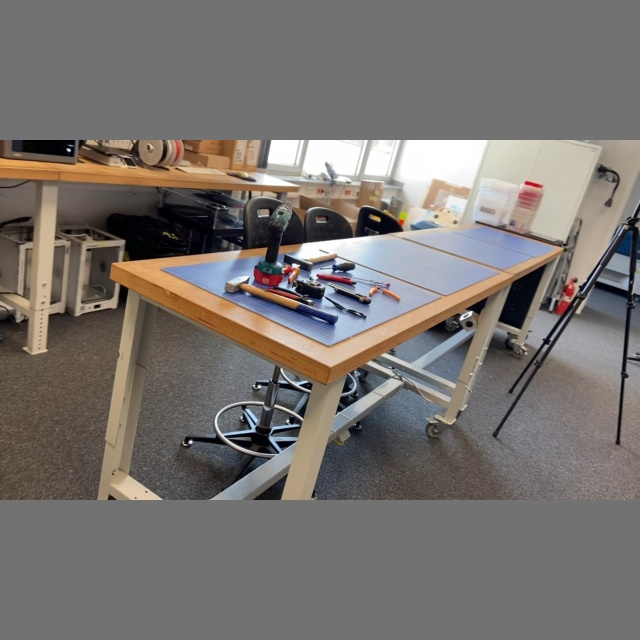drill: (253, 200, 294, 288)
screwdriver: (353, 276, 392, 288), (319, 262, 356, 272), (308, 273, 316, 281)
